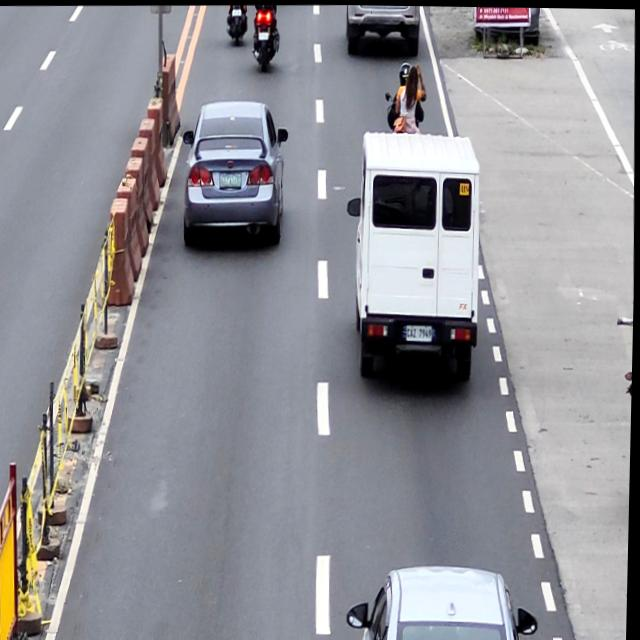Car: (345, 128, 485, 386), (181, 98, 291, 247), (349, 561, 542, 640), (343, 4, 421, 54)
License-Plate: (406, 323, 433, 341), (218, 170, 243, 189), (257, 31, 269, 40), (232, 7, 241, 16)
Motorcycle: (251, 4, 281, 71), (224, 4, 248, 43)
